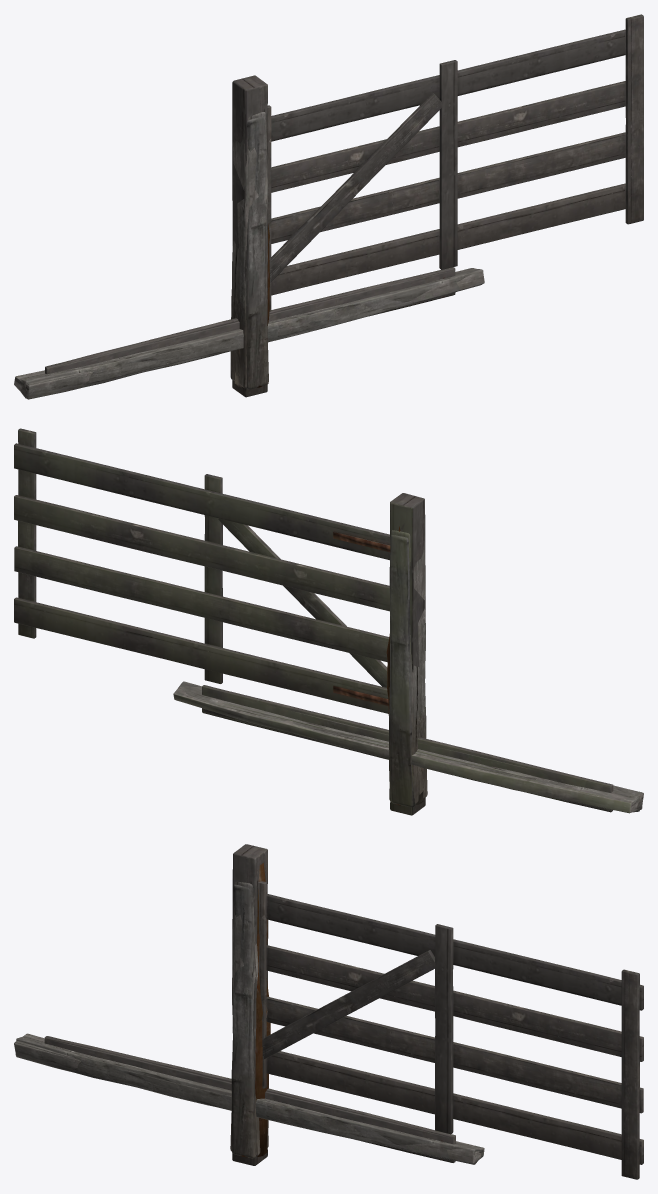
File: fences.glb
3 views of the same model, one above another, from view 1: azimuth 30°, elevation 25°; view 2: azimuth 150°, elevation 25°; view 3: azimuth 330°, elevation 25° (orthographic).
Visible parts, largest first — view 1: Gate_0, RailPost_0, Rail_2, RailPost_2, Board_1, Rail_1, PenPost_0, Rail_0, Rail_3, Board_2, PenPost_1; view 2: Gate_0, RailPost_0, Rail_0, RailPost_2, Board_0, Board_2, PenPost_0, Rail_1, Rail_2, PenPost_1, Board_3; view 3: Gate_0, RailPost_0, Rail_2, Board_1, Rail_1, Rail_0, Rail_3, PenPost_1, Board_2, RailPost_2, PenPost_0, CedarPost_0 (+2 smaller).
Boxes of the visible parts, x1=… form: Gate_0: x1=267, y1=14, x2=643, y2=311; RailPost_0: x1=230, y1=117, x2=268, y2=389; Rail_2: x1=20, y1=276, x2=482, y2=396; RailPost_2: x1=230, y1=112, x2=268, y2=388; Board_1: x1=52, y1=271, x2=455, y2=372; Rail_1: x1=19, y1=269, x2=483, y2=398; PenPost_0: x1=232, y1=81, x2=267, y2=397; Rail_0: x1=14, y1=268, x2=484, y2=399; Rail_3: x1=22, y1=269, x2=481, y2=398; Board_2: x1=45, y1=269, x2=454, y2=374; PenPost_1: x1=234, y1=75, x2=267, y2=395; Gate_0: x1=14, y1=428, x2=390, y2=713; RailPost_0: x1=389, y1=535, x2=425, y2=807; Rail_0: x1=173, y1=687, x2=643, y2=813; RailPost_2: x1=389, y1=530, x2=427, y2=803; Board_0: x1=203, y1=698, x2=612, y2=811; Board_2: x1=202, y1=688, x2=613, y2=792; PenPost_0: x1=390, y1=498, x2=425, y2=815; Rail_1: x1=180, y1=681, x2=642, y2=810; Rail_2: x1=220, y1=701, x2=641, y2=809; PenPost_1: x1=390, y1=493, x2=425, y2=815; Board_3: x1=202, y1=685, x2=613, y2=812; Gate_0: x1=258, y1=881, x2=643, y2=1179; RailPost_0: x1=231, y1=884, x2=268, y2=1157; Rail_2: x1=16, y1=1036, x2=479, y2=1164; Board_1: x1=49, y1=1040, x2=454, y2=1161; Rail_1: x1=15, y1=1041, x2=477, y2=1159; Rail_0: x1=14, y1=1033, x2=484, y2=1163; Rail_3: x1=72, y1=1061, x2=483, y2=1163; PenPost_1: x1=232, y1=844, x2=267, y2=1165; Board_2: x1=44, y1=1037, x2=455, y2=1162; RailPost_2: x1=230, y1=882, x2=268, y2=1156; PenPost_0: x1=232, y1=845, x2=267, y2=1164; CedarPost_0: x1=255, y1=1027, x2=268, y2=1156.
Size of the model in its own units: 3.8 by 1.8 by 0.1888.
Materials: 1 (1 with a texture image).
